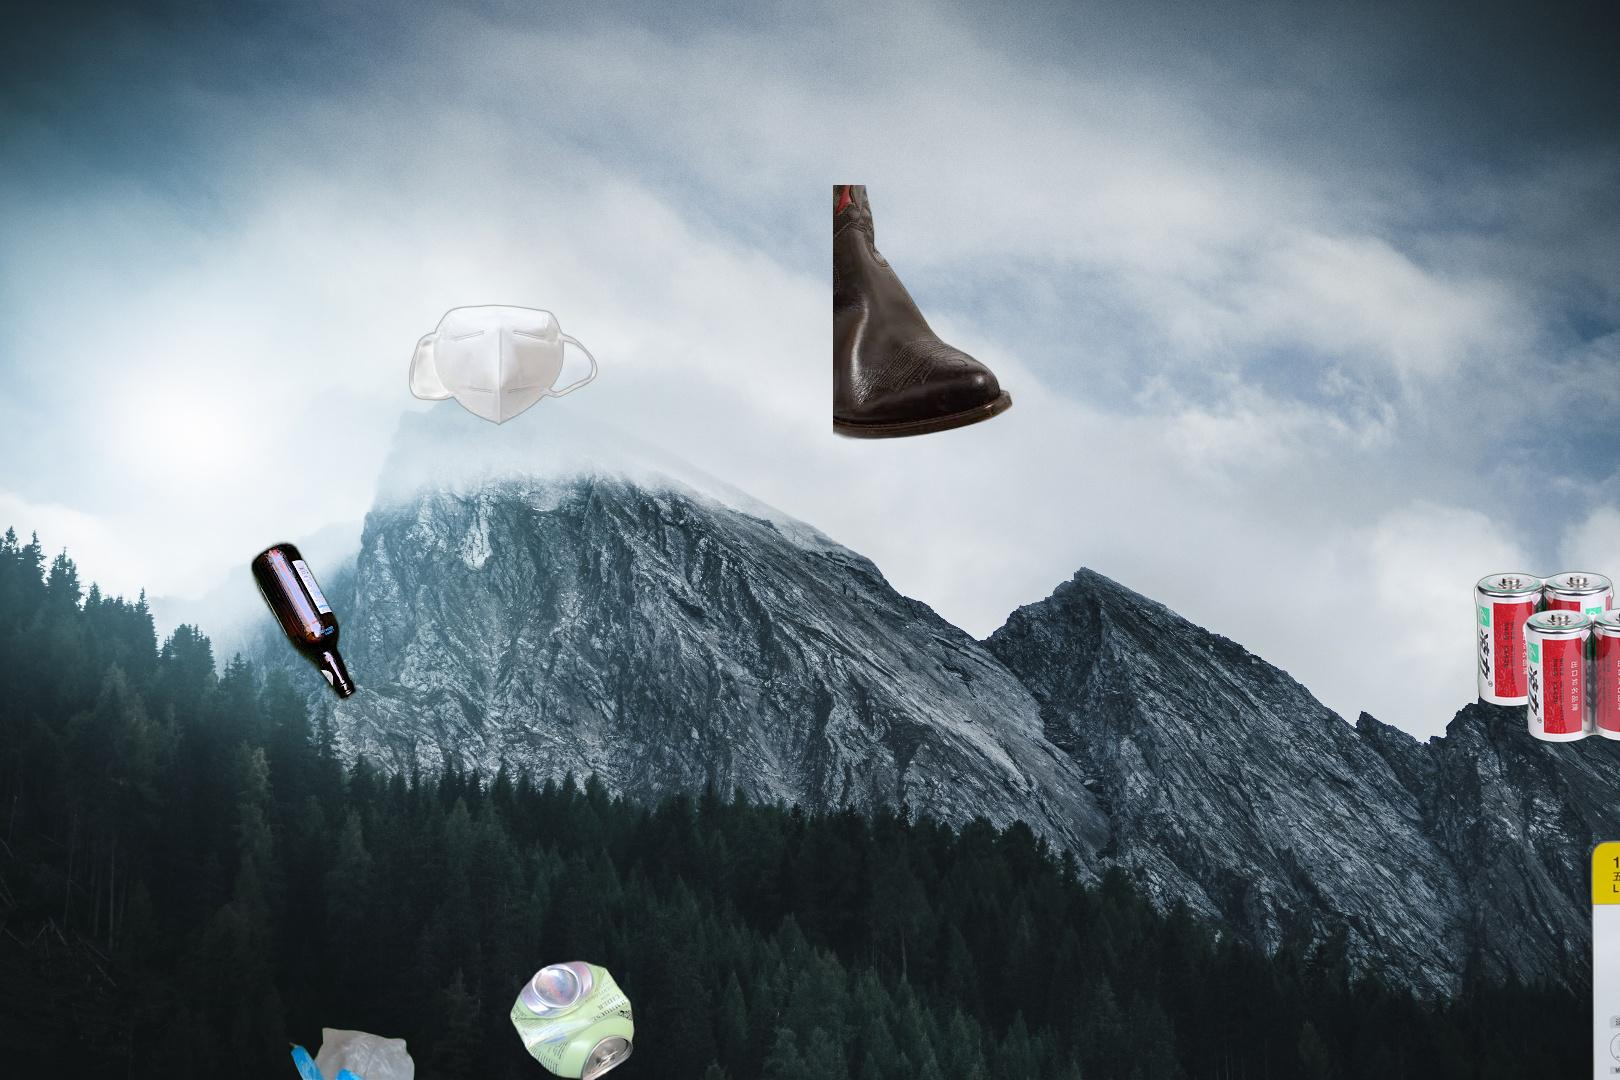battery: (1471, 569, 1620, 745), (1585, 833, 1620, 1080)
glass: (247, 538, 360, 708)
metal-cans: (505, 953, 640, 1080)
plastic-bag: (219, 1025, 470, 1080)
shoes: (833, 184, 1015, 442)
trash: (407, 303, 600, 425)
